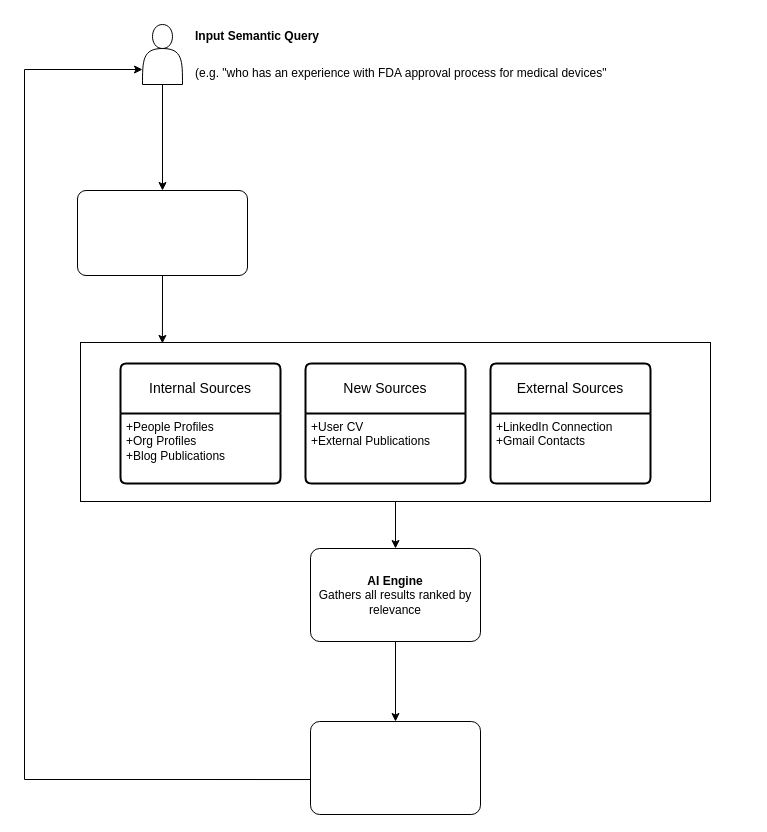
The diagram is 767 pixels wide and 832 high, and some of its shapes have lost their labels. The shapes that lost their labels are listed below. From the top down, each one's centre as x and y in pixels, then its label:
At (x=162, y=233): "AI Search Engine Parses and traverses People Graph".
At (x=395, y=767): "Ranked search results Shows user list of people matching the query".
